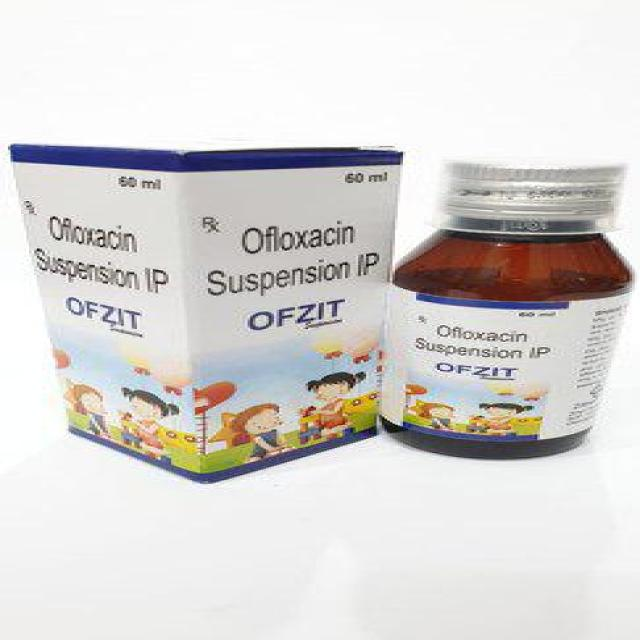B3: (358, 133, 640, 469)
